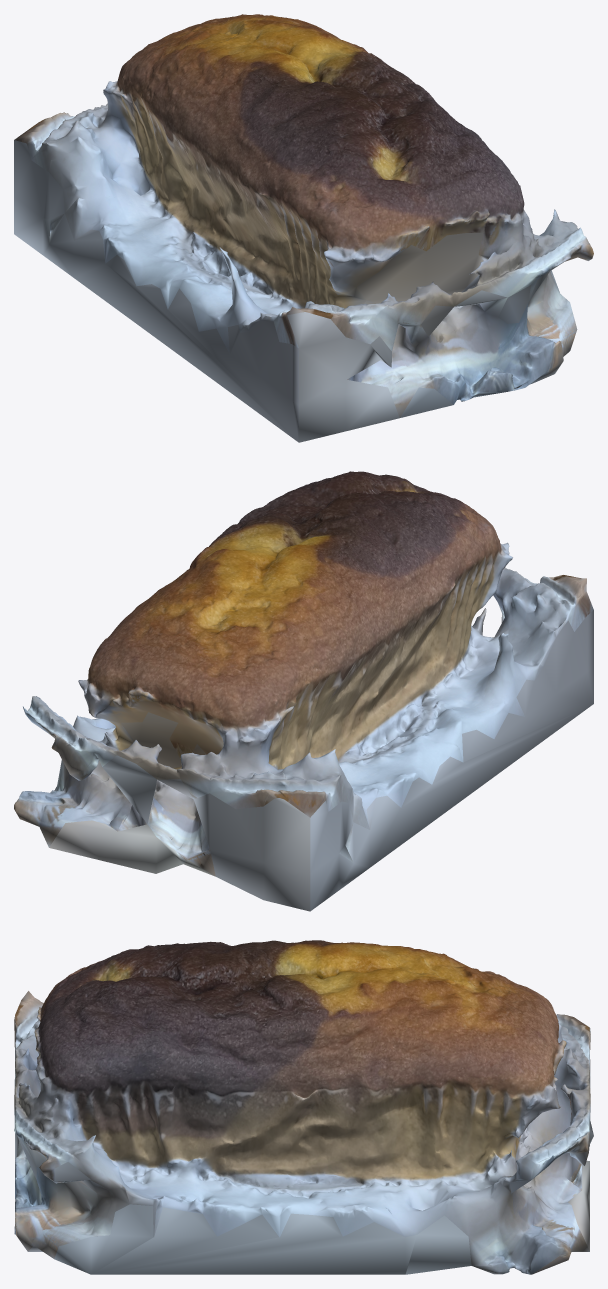
File: realityscan_full_4k.glb
3 renders of one model, top to bottom at view 1: azimuth 30°, elevation 25°; view 2: azimuth 150°, elevation 25°; view 3: azimuth 270°, elevation 25°, orthographic.
Visible parts, largest first — view 1: normalize; view 2: normalize; view 3: normalize.
Boxes of the visible parts, x1,y1,x2,y2 form: normalize: [14, 14, 593, 442]; normalize: [14, 471, 593, 911]; normalize: [14, 940, 593, 1274].
Size of the model in its own units: 0.1901 by 0.1385 by 0.3.
1 material, 1 textured.
